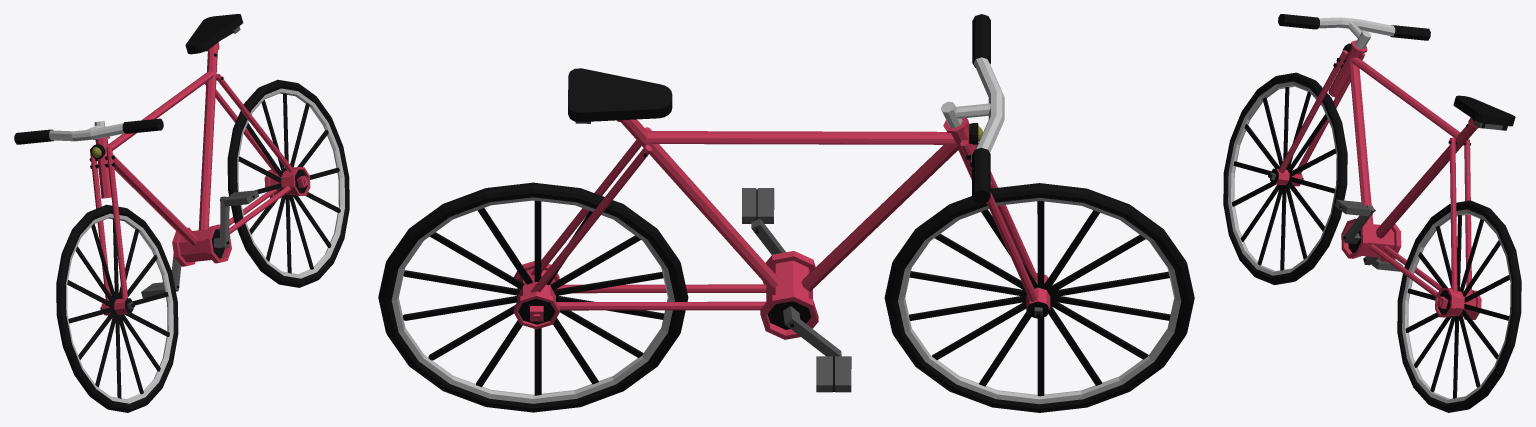
The model's file is bicycle.glb.
3 renders of one model, left to right at view 1: azimuth 30°, elevation 25°; view 2: azimuth 150°, elevation 25°; view 3: azimuth 270°, elevation 25°, orthographic. The views are drawn at different scales.
Parts seen in each view (by area): view 1: bicycle; view 2: bicycle; view 3: bicycle.
Boxes of the visible parts, box(x1,y1,x2,y2) form: bicycle: box(14, 14, 349, 412); bicycle: box(378, 14, 1194, 412); bicycle: box(1223, 14, 1521, 412).
Bounding box in the file's own units: 4.08 × 2.54 × 2.48.
